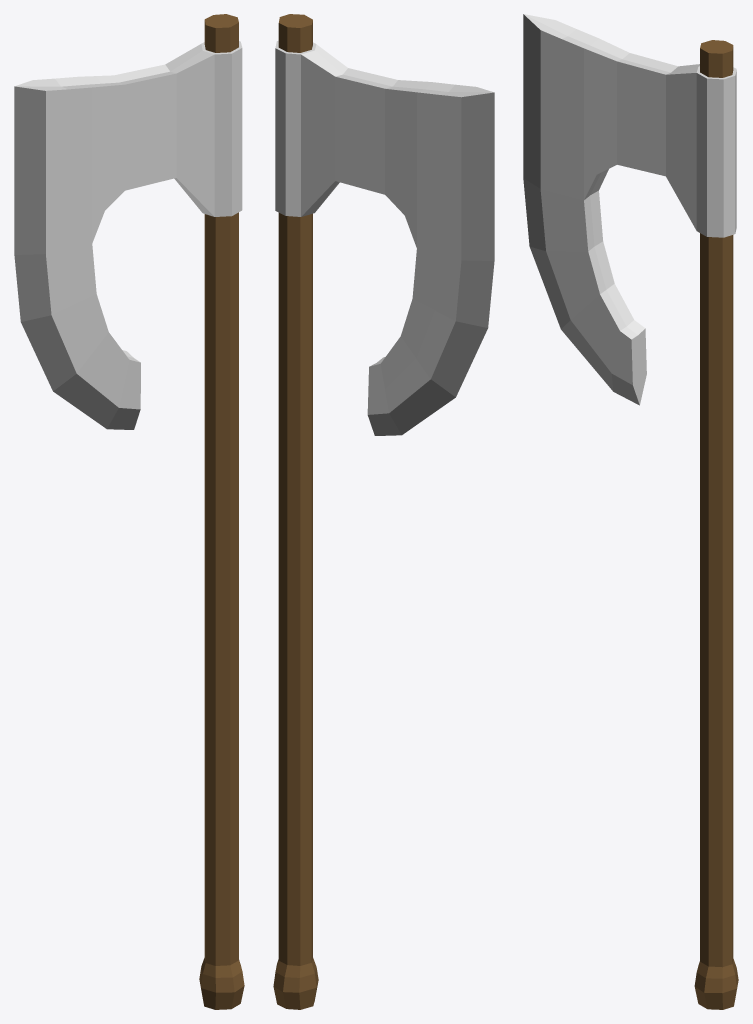
File: Axe.fbx
3 views of the same model, side by side, from view 1: azimuth 30°, elevation 25°; view 2: azimuth 150°, elevation 25°; view 3: azimuth 330°, elevation 25° (orthographic). The views are drawn at different scales.
Parts seen in each view (by area): view 1: Axe; view 2: Axe; view 3: Axe.
Part boxes in pixels (x1,y1,x2,y2): Axe: (14, 14, 244, 1009); Axe: (273, 14, 494, 1009); Axe: (523, 14, 738, 1009).
Size of the model in its own units: 29.81 by 125 by 5.97.
